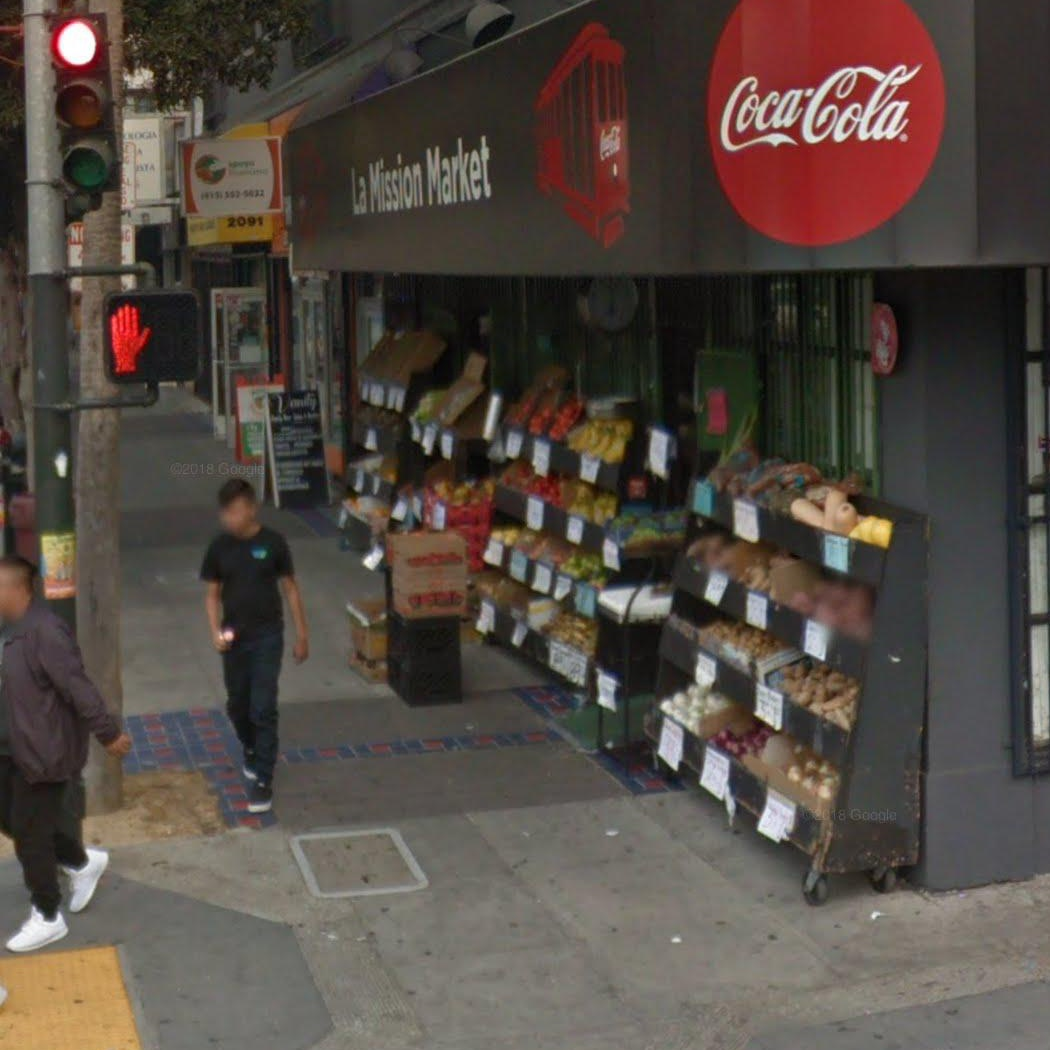No Parking: (65, 219, 136, 294)
